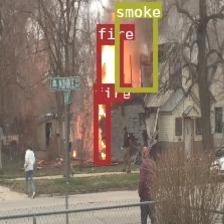fire: (96, 40, 122, 101), (93, 99, 109, 163)
smoke: (114, 2, 157, 91)
